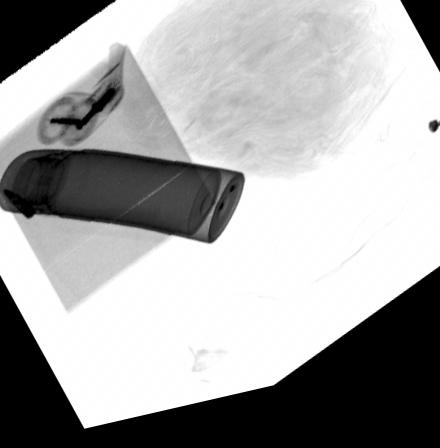Bullet: (0, 189, 38, 221)
